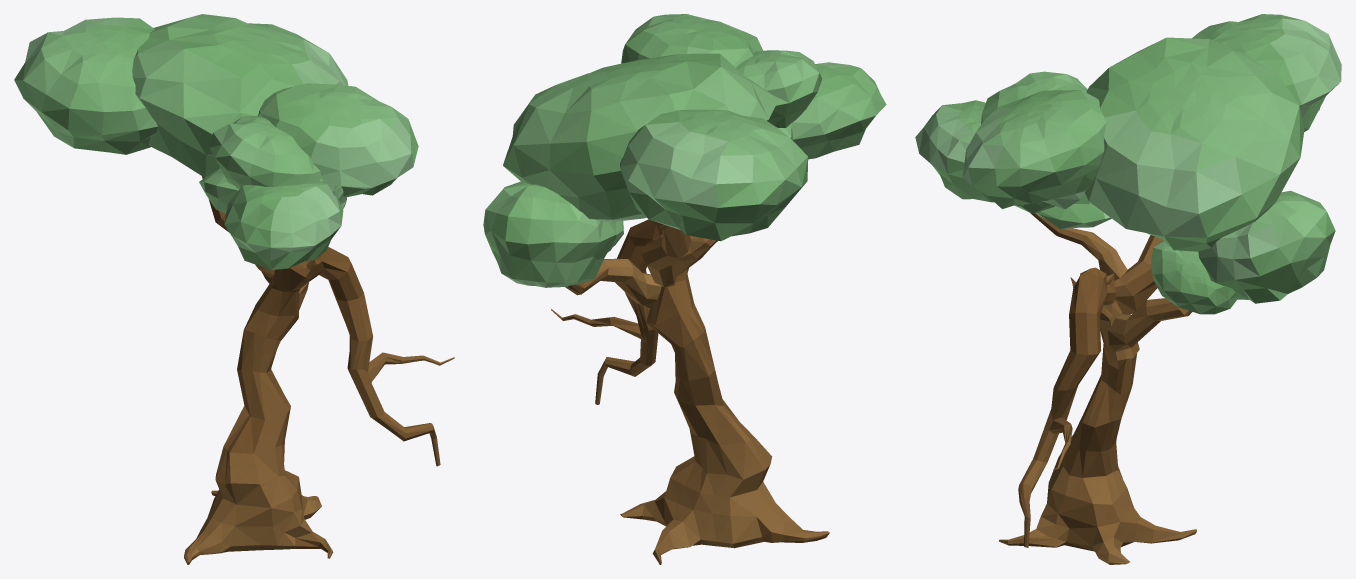
Rendered from tree_1_b.obj.
The picture shows the model from 3 angles, left to right: view 1: azimuth 30°, elevation 25°; view 2: azimuth 150°, elevation 25°; view 3: azimuth 270°, elevation 25°; orthographic projection. The views are drawn at different scales.
Visible parts, largest first — view 1: crown_1_b_Material, trunk_1_b_Material; view 2: crown_1_b_Material, trunk_1_b_Material; view 3: crown_1_b_Material, trunk_1_b_Material.
Boxes of the visible parts, bbox=[...] form: crown_1_b_Material: bbox=[14, 14, 418, 269]; trunk_1_b_Material: bbox=[184, 176, 454, 564]; crown_1_b_Material: bbox=[483, 14, 886, 287]; trunk_1_b_Material: bbox=[551, 219, 829, 564]; crown_1_b_Material: bbox=[915, 14, 1341, 314]; trunk_1_b_Material: bbox=[999, 213, 1196, 564].
Size of the model in its own units: 3.91 by 5.36 by 4.36.
